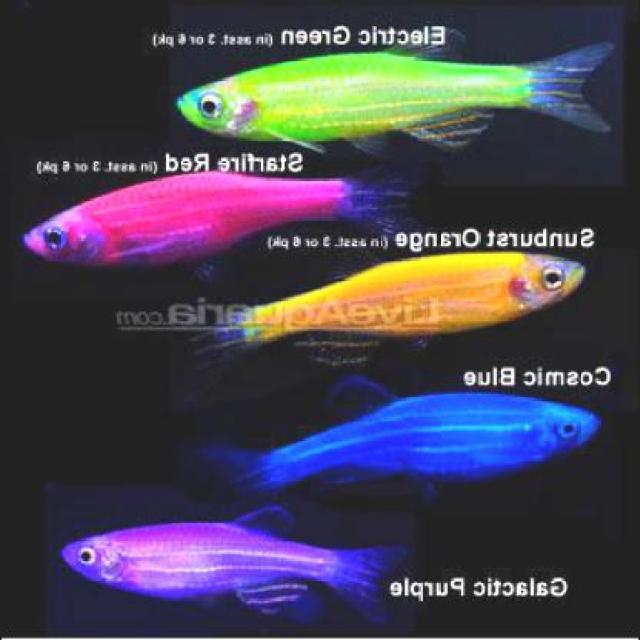ZebraFish: (172, 30, 618, 155), (61, 507, 404, 638), (213, 248, 587, 361), (234, 384, 608, 496), (28, 169, 406, 268)
